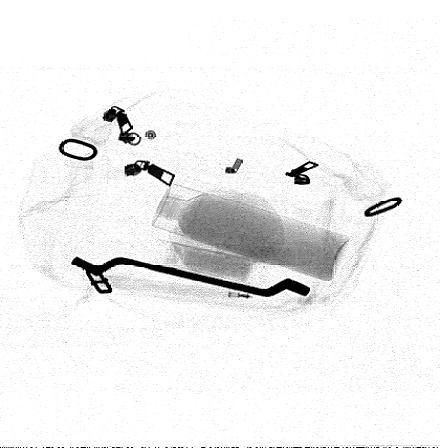Wrench: (69, 254, 312, 298)
